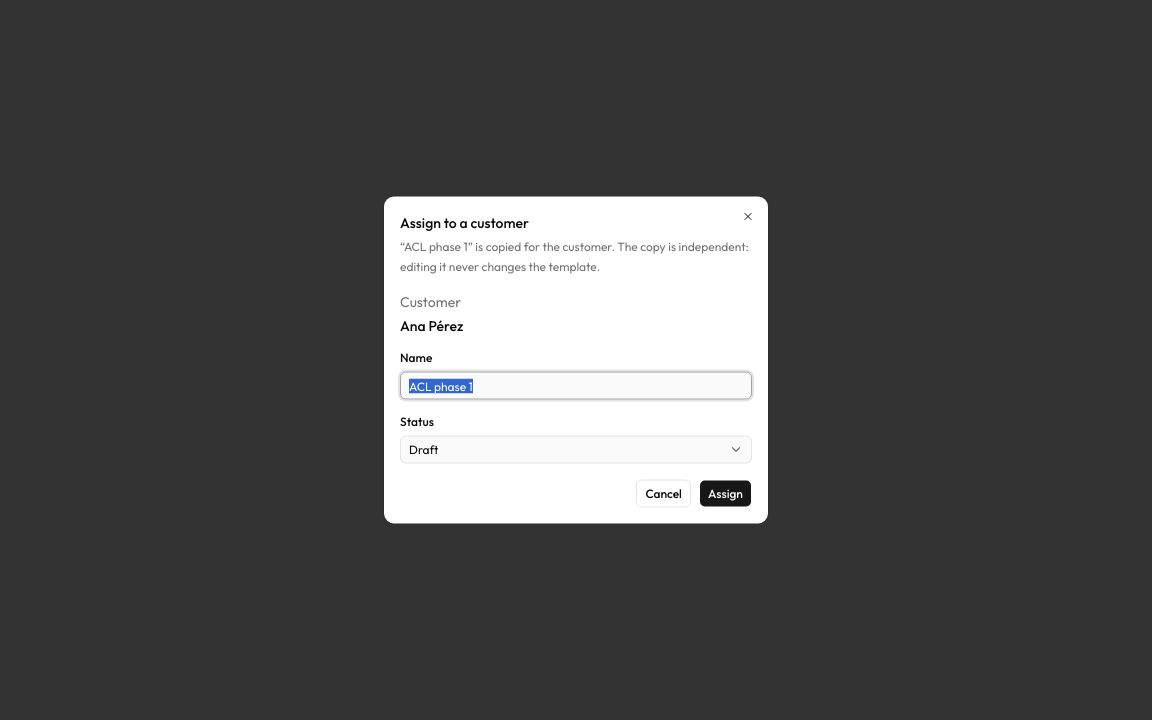
Test: AssignTemplateDialog with a fixed customer › shows needsEntries from the server
Click the button "Assign".
click(725, 494)  # box [699,480,752,508]
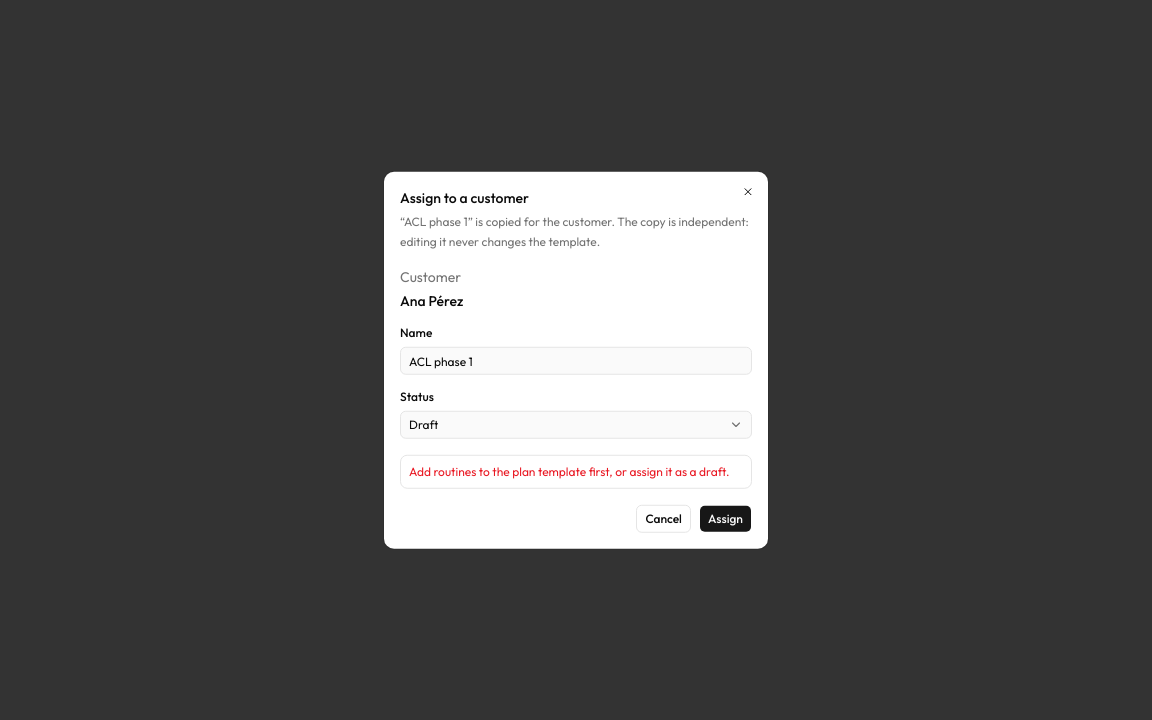
Now the message reads "Add routines to the plan template first, or assign it as a draft.", box [409,464,730,479]
